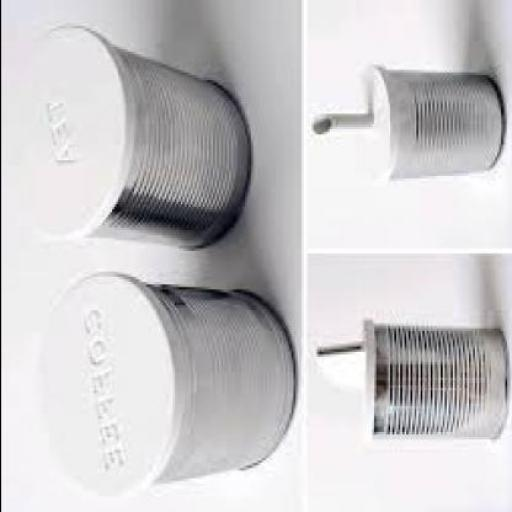metal: (65, 39, 249, 250), (97, 284, 292, 468), (359, 320, 504, 438), (365, 70, 498, 176)
